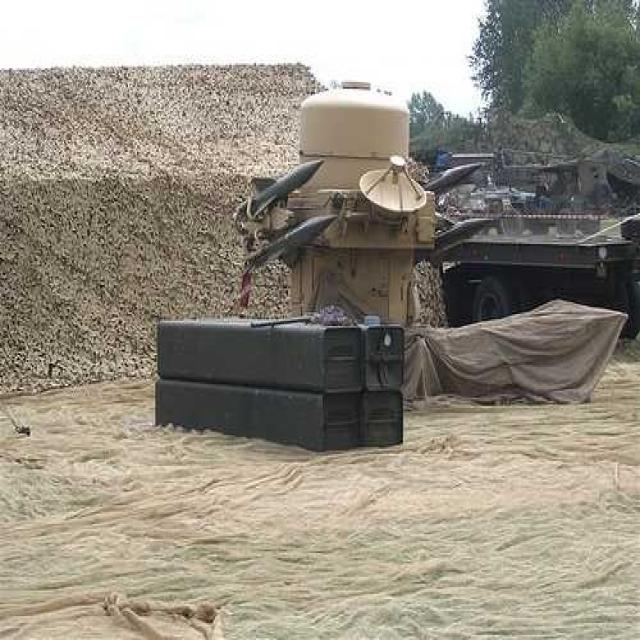missile: (244, 146, 326, 219), (250, 207, 342, 256), (422, 152, 488, 198), (434, 208, 501, 252)
